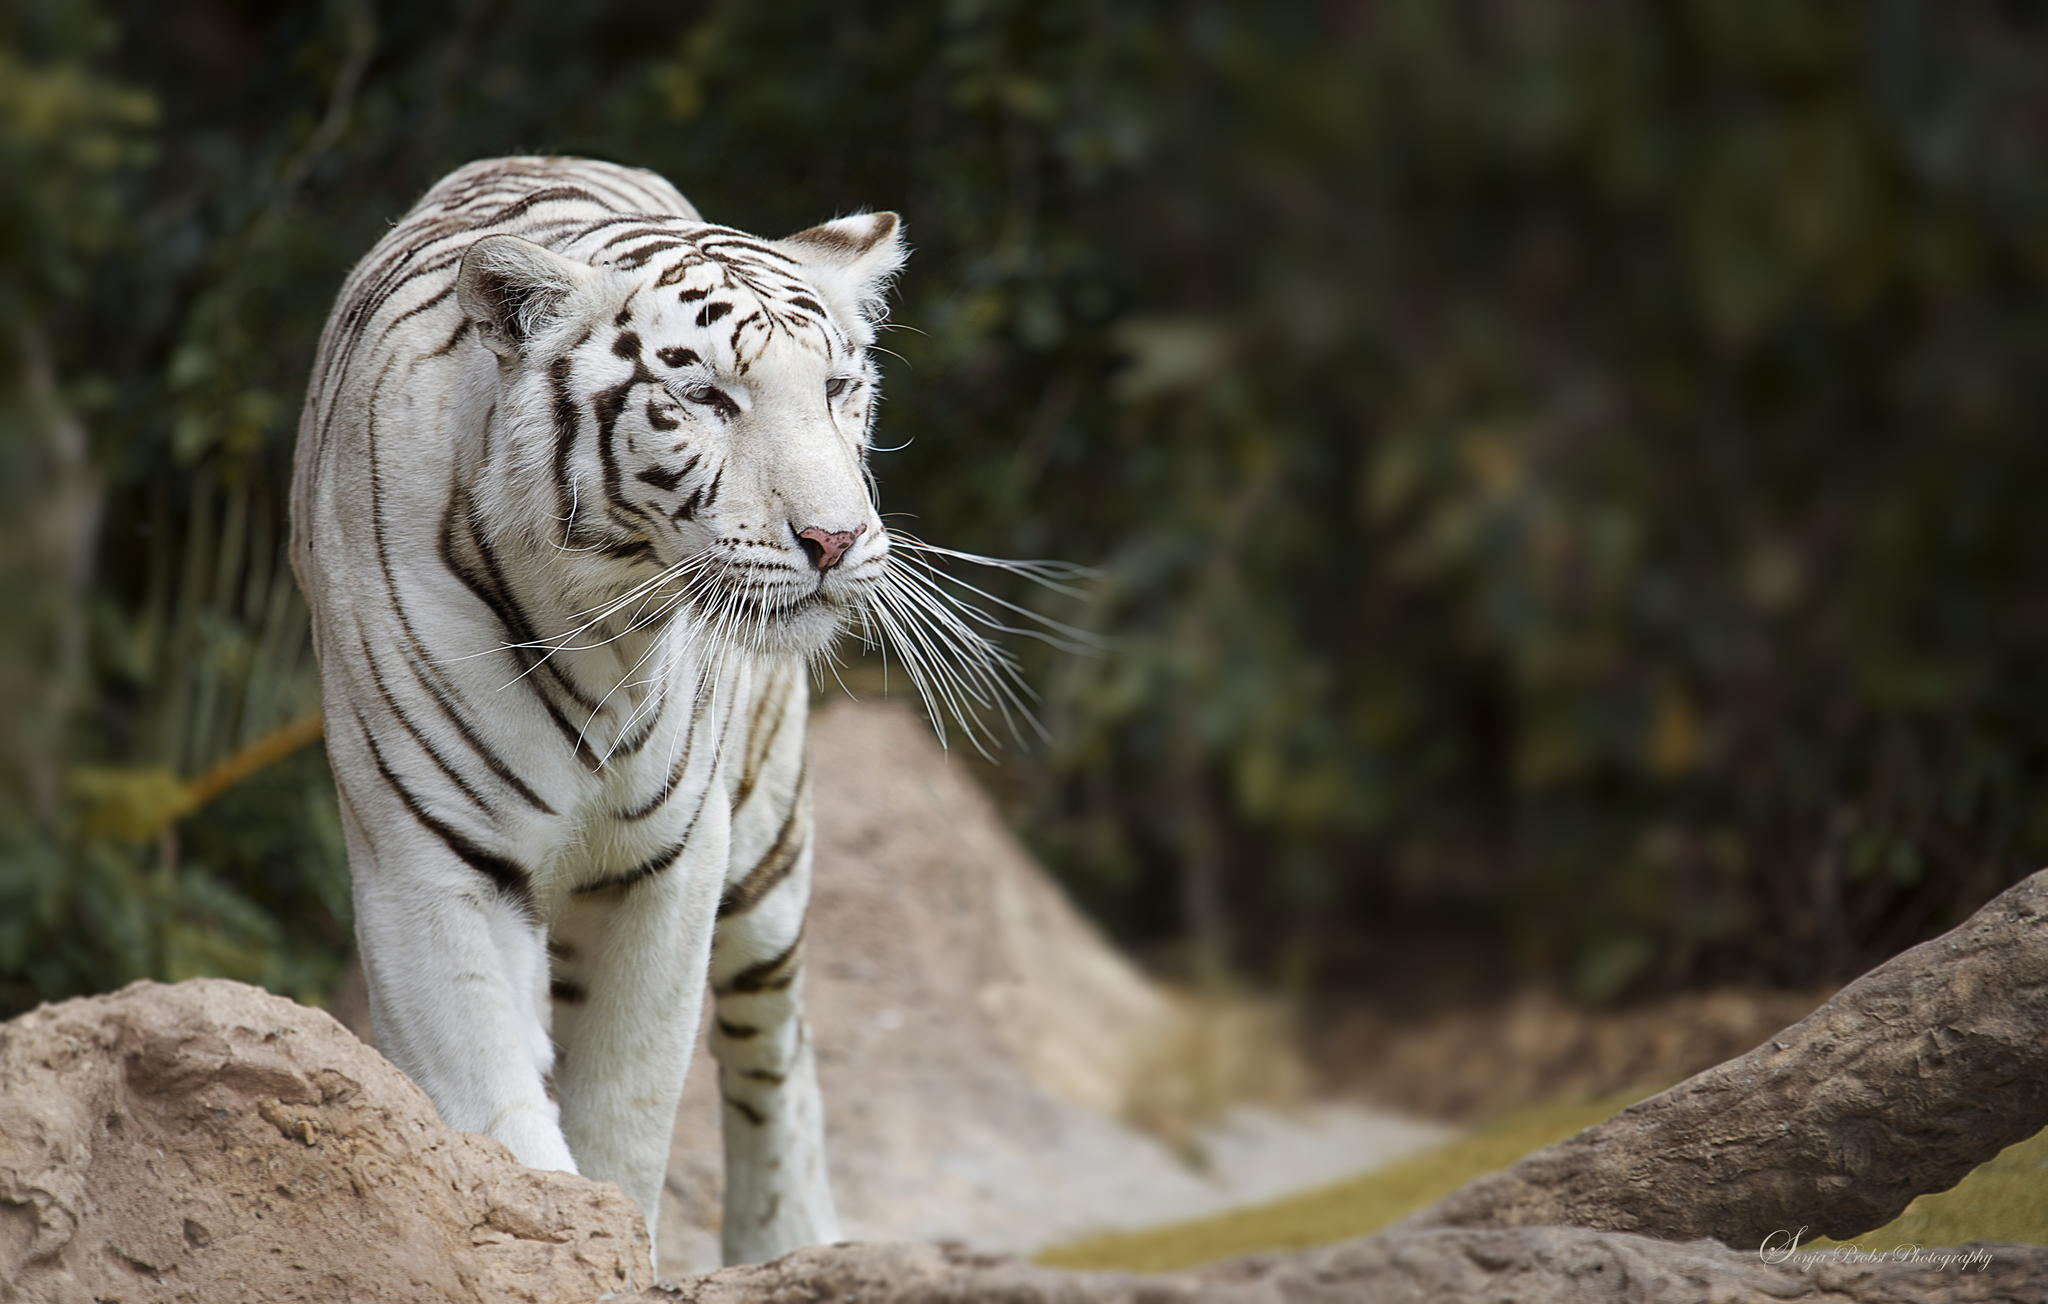tiger: (281, 131, 958, 1200)
